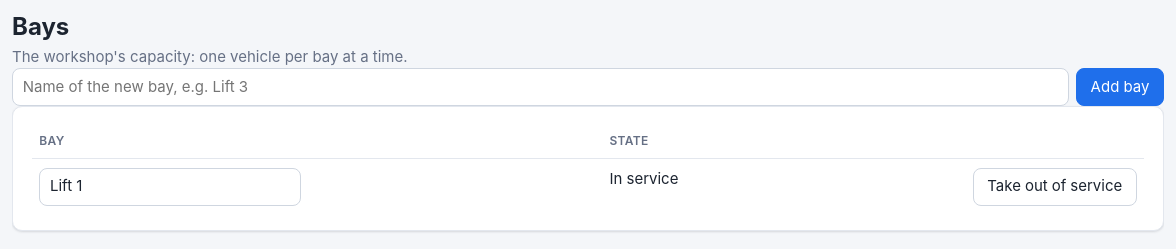
BaysPage › renames a bay against the version it loaded
Replace the text in the field named "Name of Lift 1" with "Lift 1 (alignment)" at (170, 186), box left=39, top=168, right=301, bottom=206
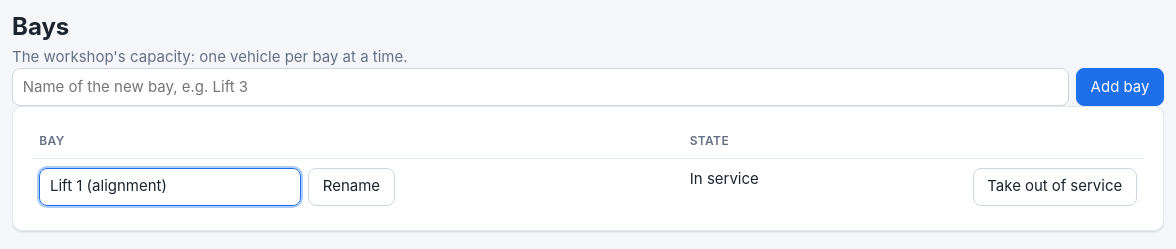
Click the button "Rename".
click(352, 186)  # box left=308, top=168, right=395, bottom=206
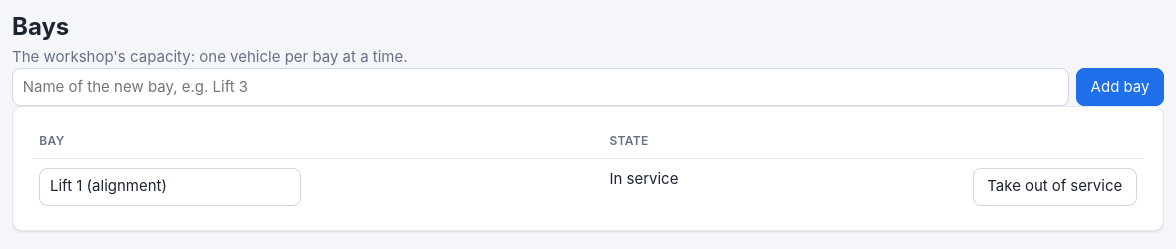
Expected: the button "Rename" is gone
